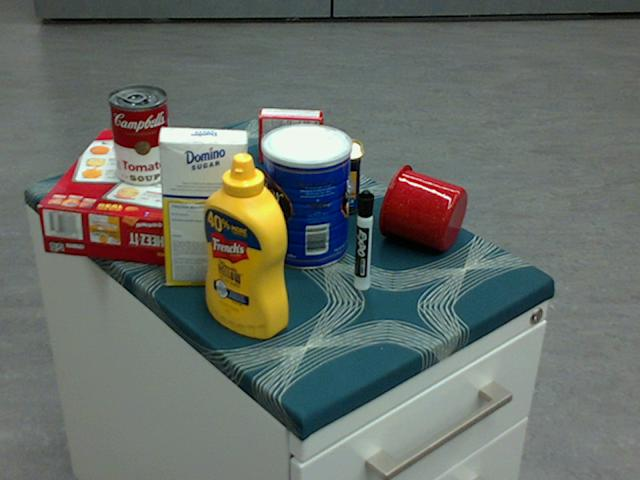cracker_box: (36, 129, 220, 267)
gelatin_box: (258, 108, 322, 164)
large_marker: (355, 190, 373, 290)
master_chef_can: (260, 122, 351, 269)
mug: (378, 163, 467, 250)
mustard_bottle: (204, 152, 287, 339)
potted_meat_can: (280, 136, 362, 215)
sugar_box: (157, 127, 247, 286)
tomato_soup_can: (107, 85, 171, 186)
tuna_fish_can: (199, 145, 249, 215)
